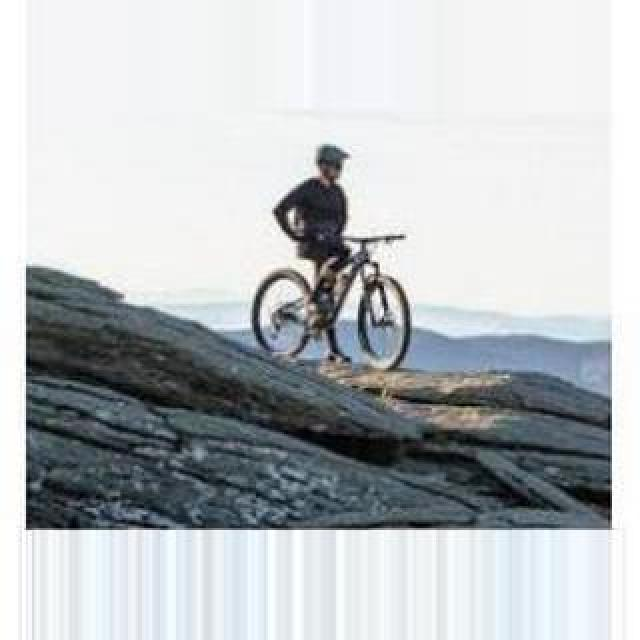MC-Bike: (272, 142, 354, 324)
Person: (252, 230, 410, 372)
